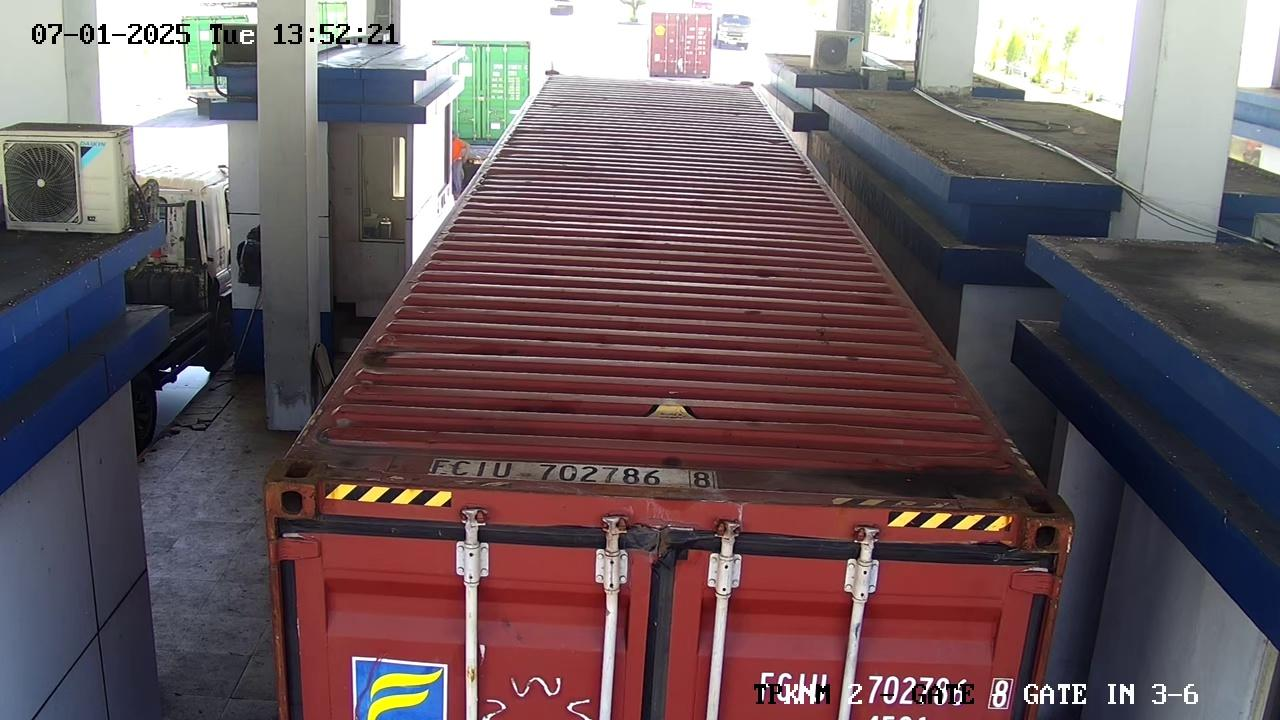Container_ID: (412, 445, 731, 504), (735, 662, 1024, 720)
